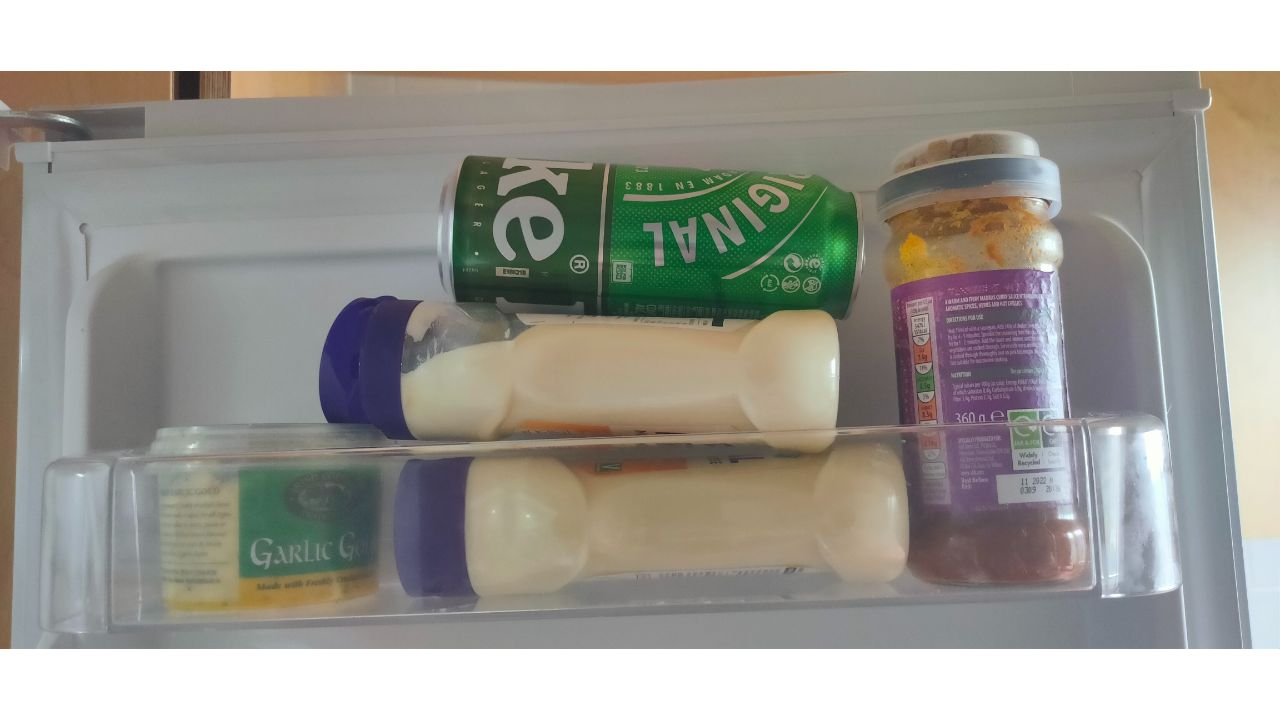Can: (432, 155, 868, 316)
